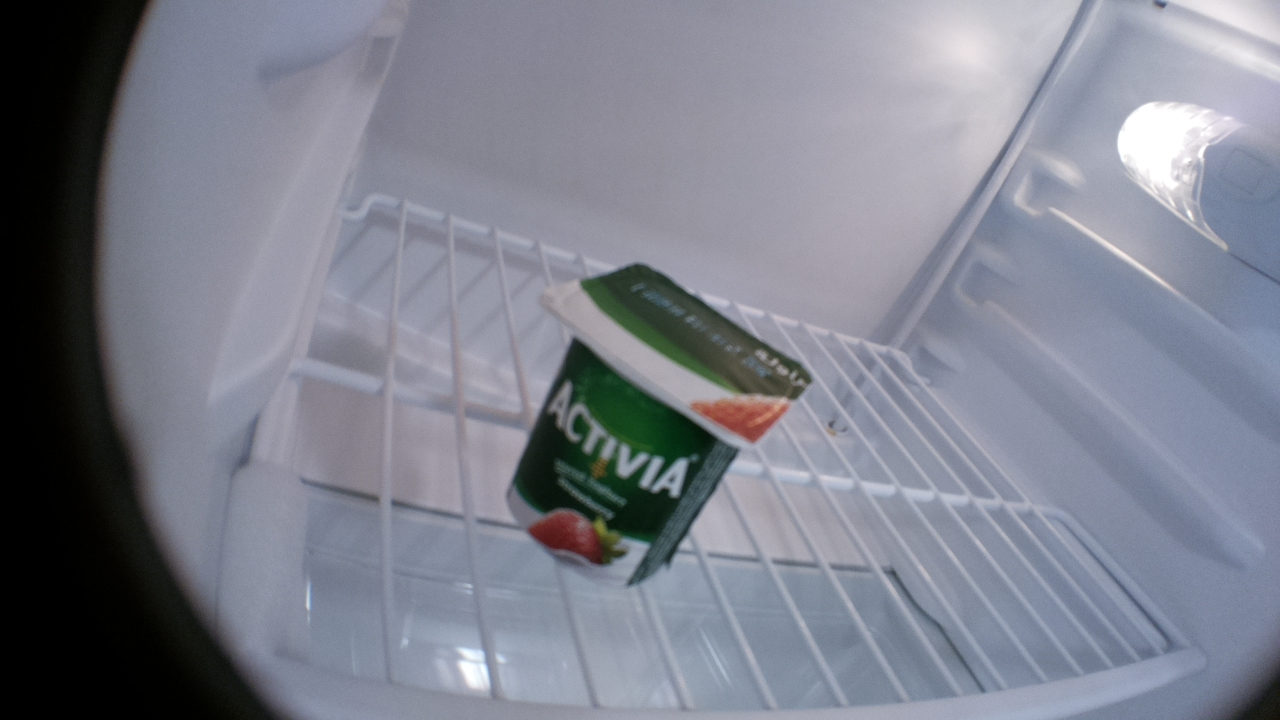yoghurt: (504, 258, 815, 589)
